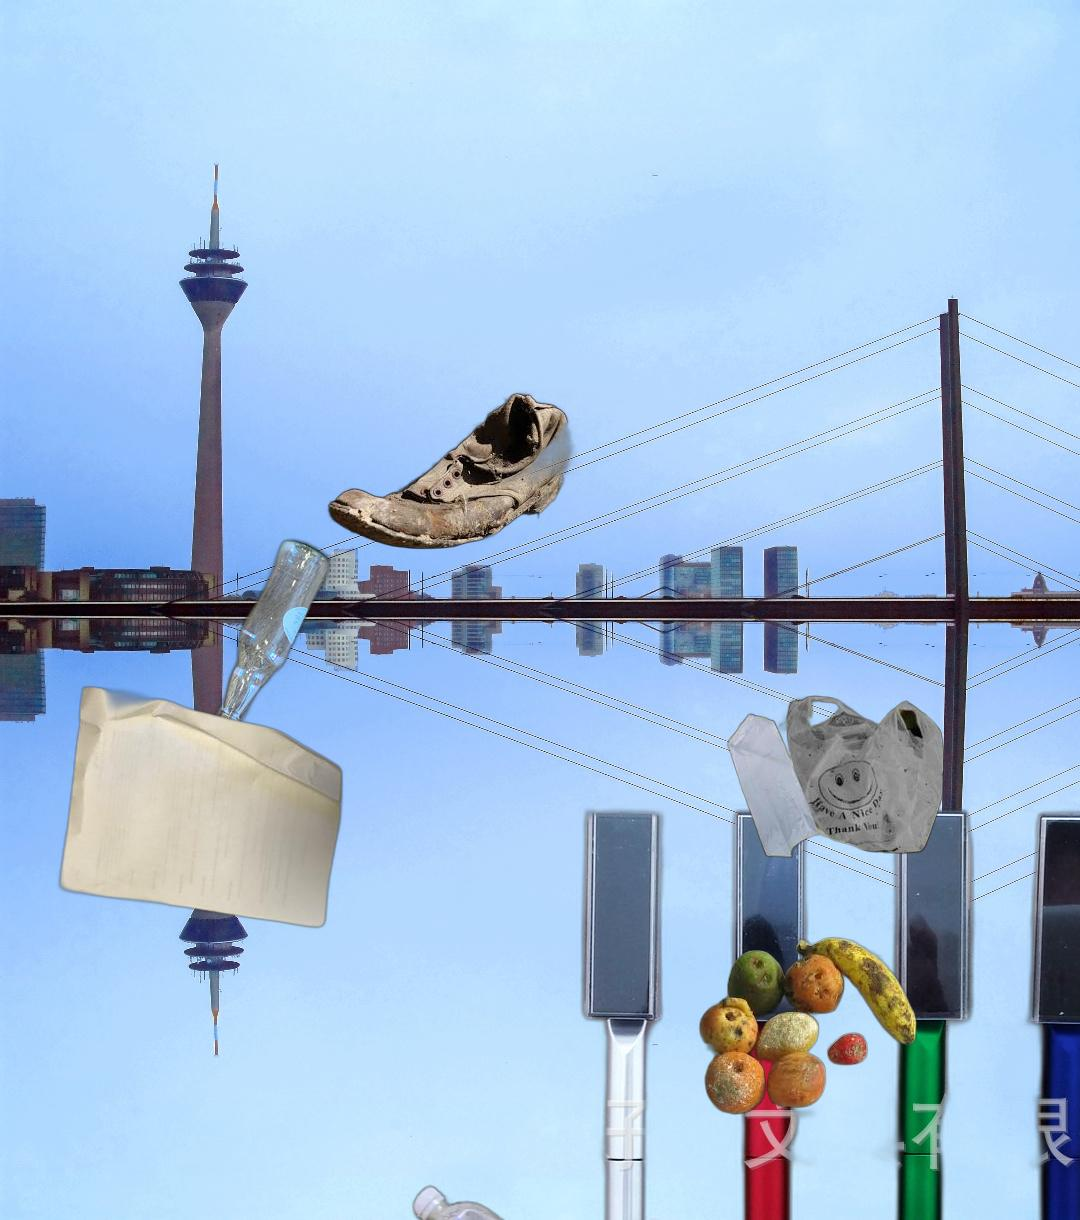biological: (697, 935, 924, 1117)
glass: (206, 534, 335, 737)
paper: (54, 683, 346, 931)
penholder: (573, 801, 1080, 1220)
plastic-bag: (725, 694, 947, 859)
plastic-bottles: (408, 1180, 586, 1220)
shoes: (311, 389, 586, 572)
